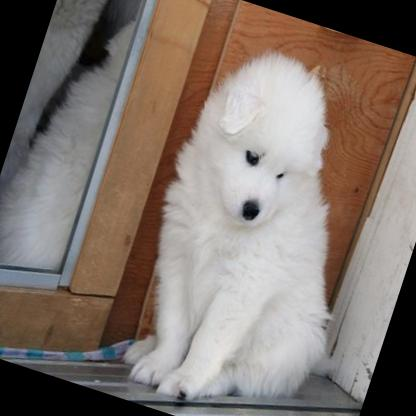Samoyed: (102, 26, 411, 416)
